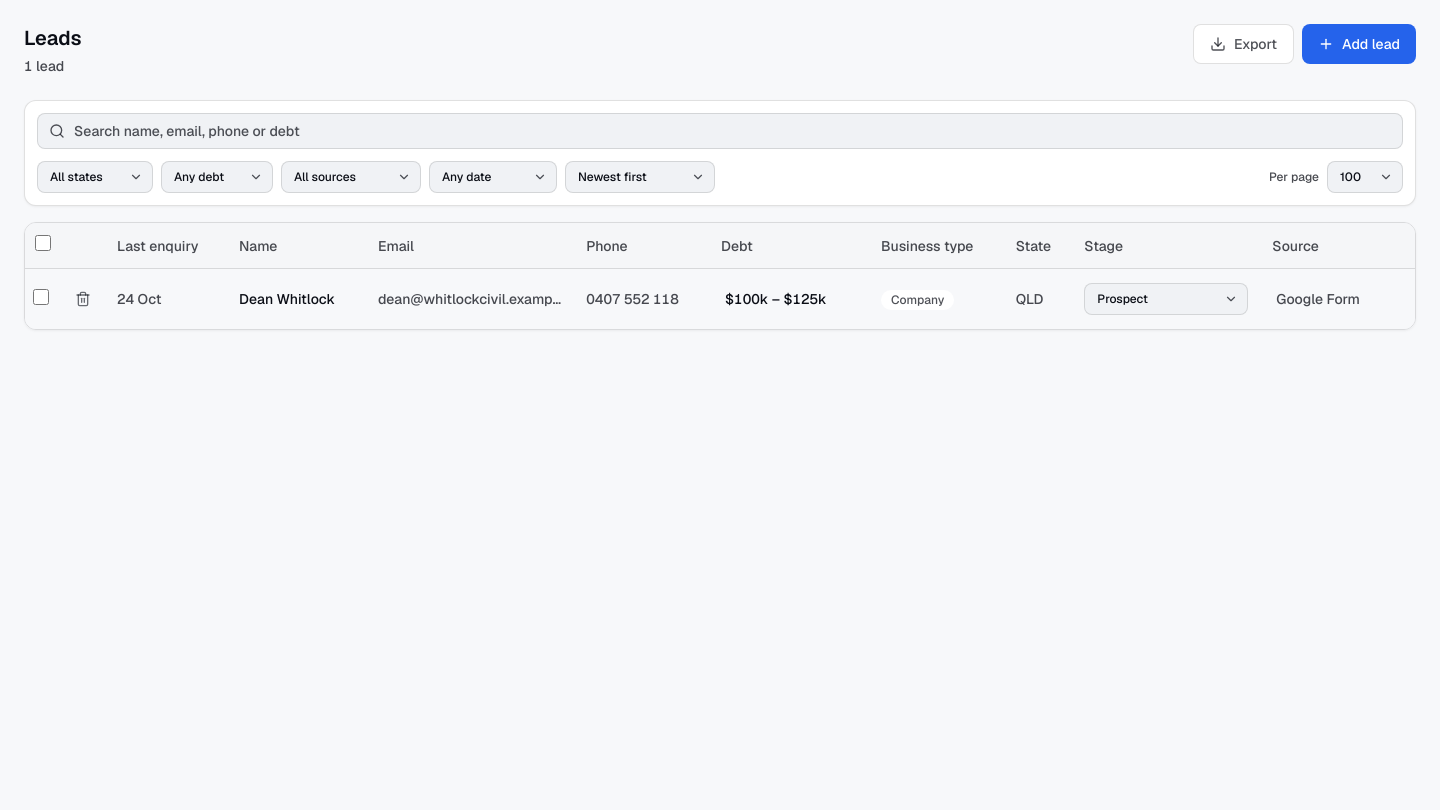
Test case: ConvertToClientDialog › puts the trust straight under the company ABN, before the registered office
The image size is (1440, 810).
Select "Client" in the dropdown named "Stage for Dean Whitlock" at (1166, 299), box [1084,283,1248,315]
(page scrolled)
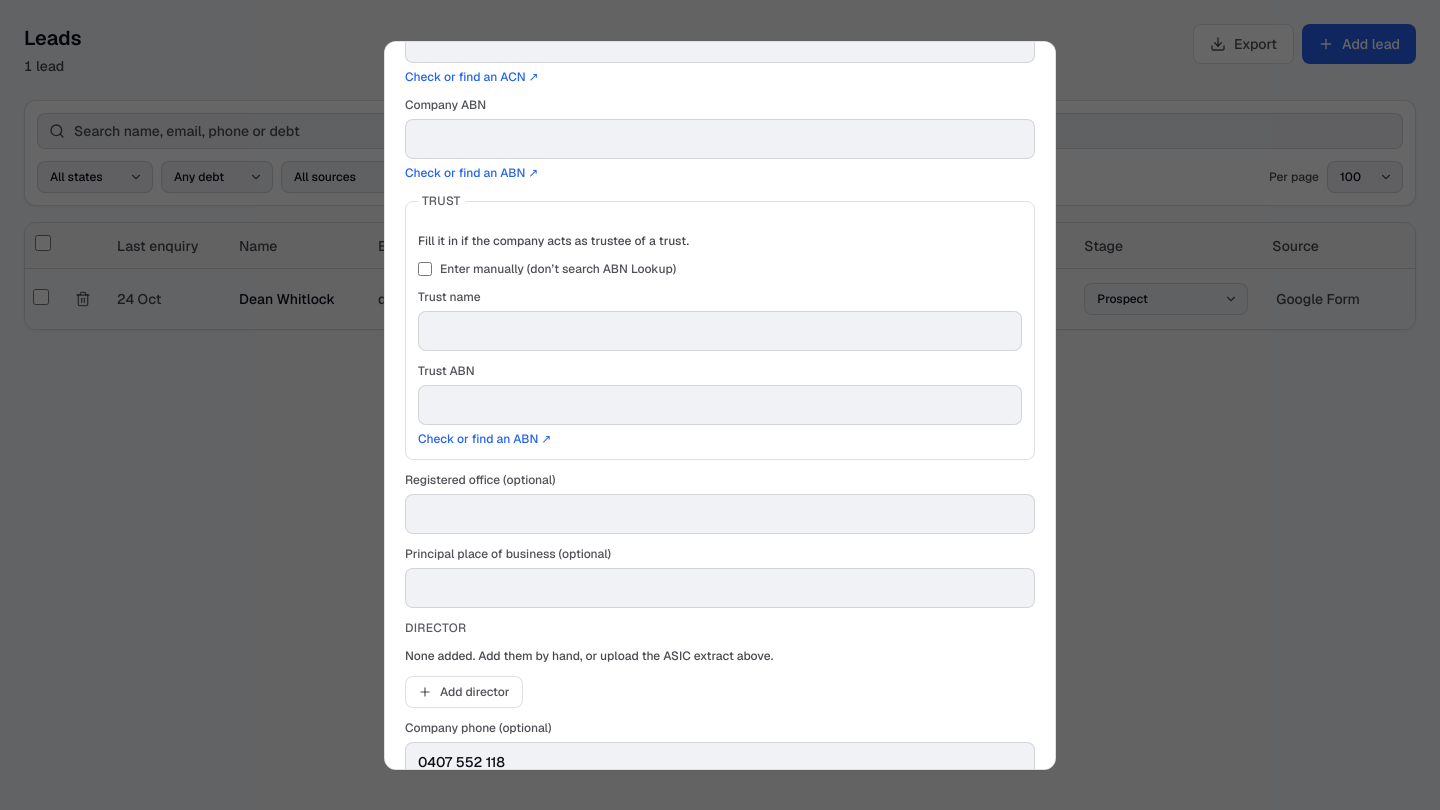
Now the field labelled "Trust name" is shown, box [418,311,1022,351]
Now the field labelled "Trust ABN" is shown, box [418,385,1022,425]
